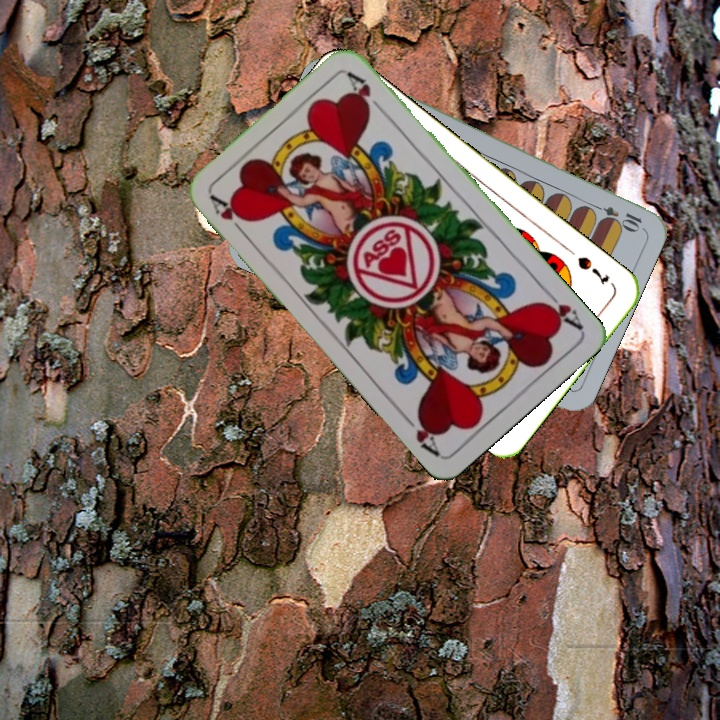E10: (587, 199, 645, 232)
HA: (535, 284, 585, 333), (206, 191, 251, 240)
S7: (573, 252, 612, 288)
